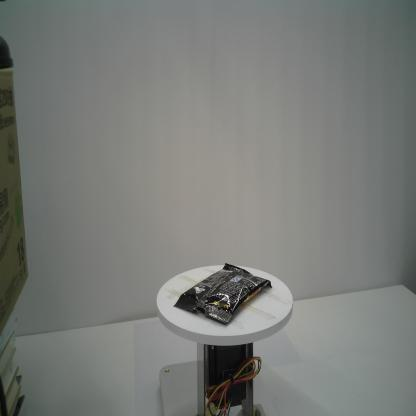Instant Drink: (173, 262, 273, 326)
